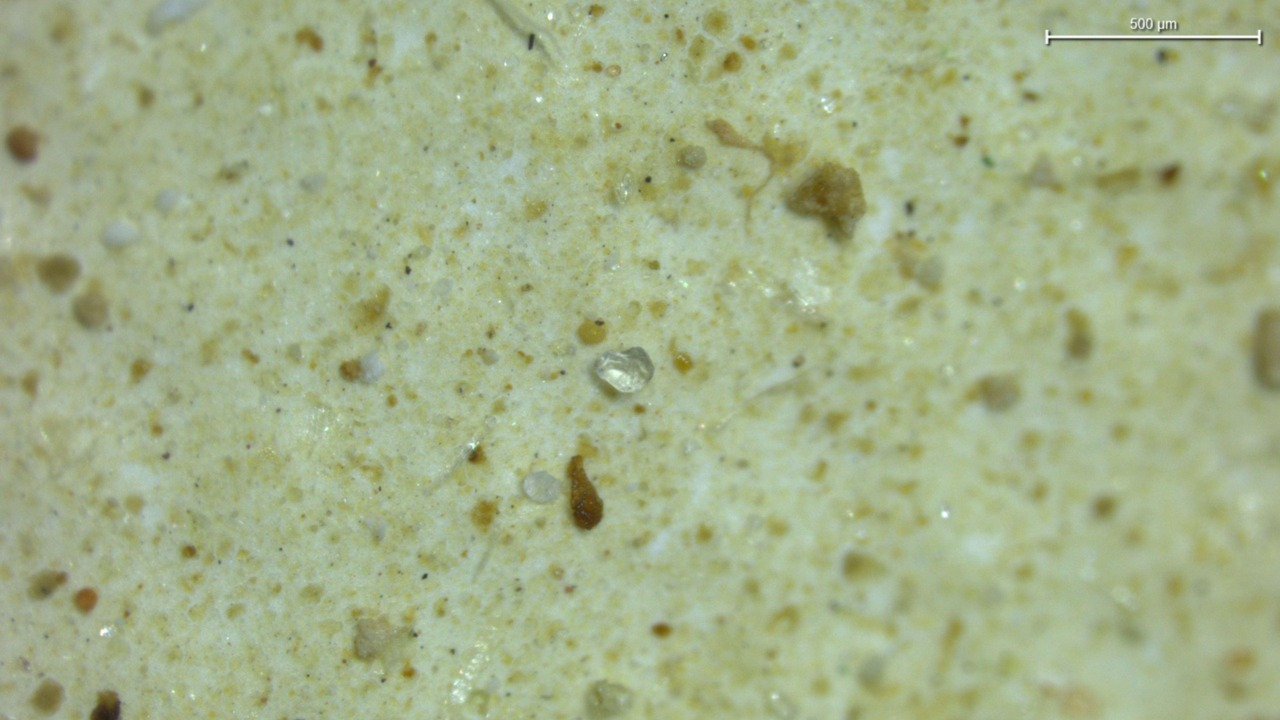microplastic_fragment: (594, 347, 654, 393), (523, 470, 560, 503), (612, 173, 637, 204)
